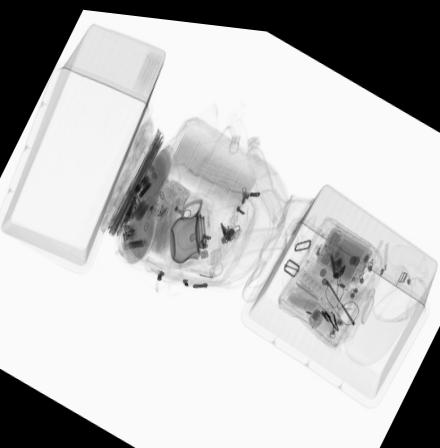Lighter: (327, 304, 344, 317)
